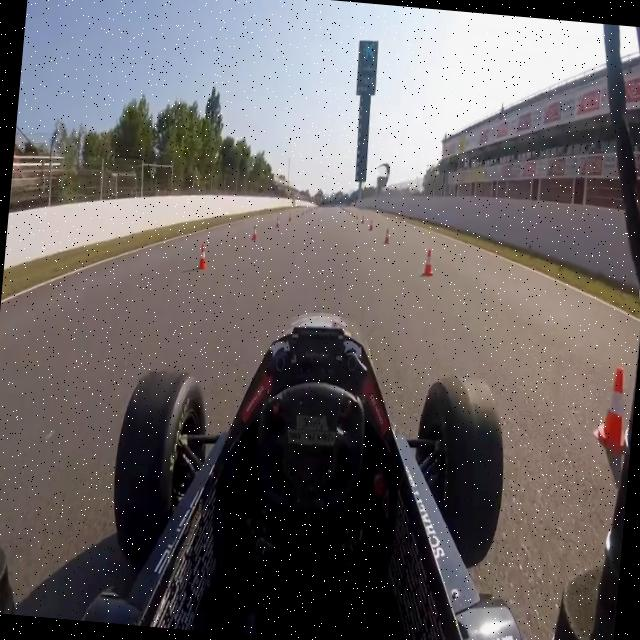orange_cone: (590, 356, 636, 453), (420, 246, 436, 277), (196, 240, 210, 272), (0, 357, 5, 429), (382, 226, 390, 245), (251, 224, 259, 242), (368, 219, 374, 232), (360, 213, 365, 226), (276, 216, 280, 228), (288, 212, 292, 222)
